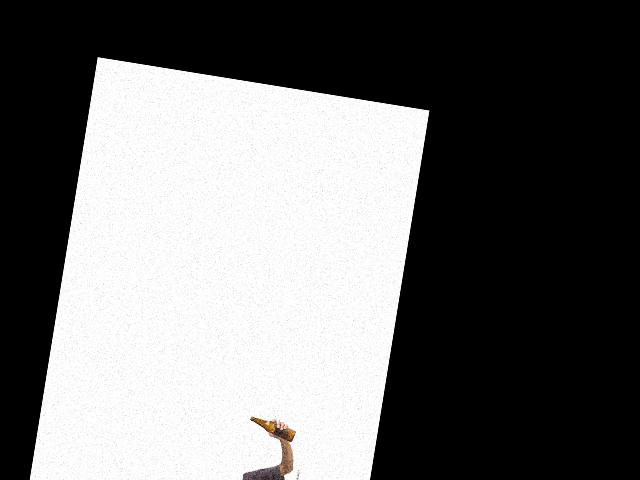beer: (247, 416, 297, 442)
